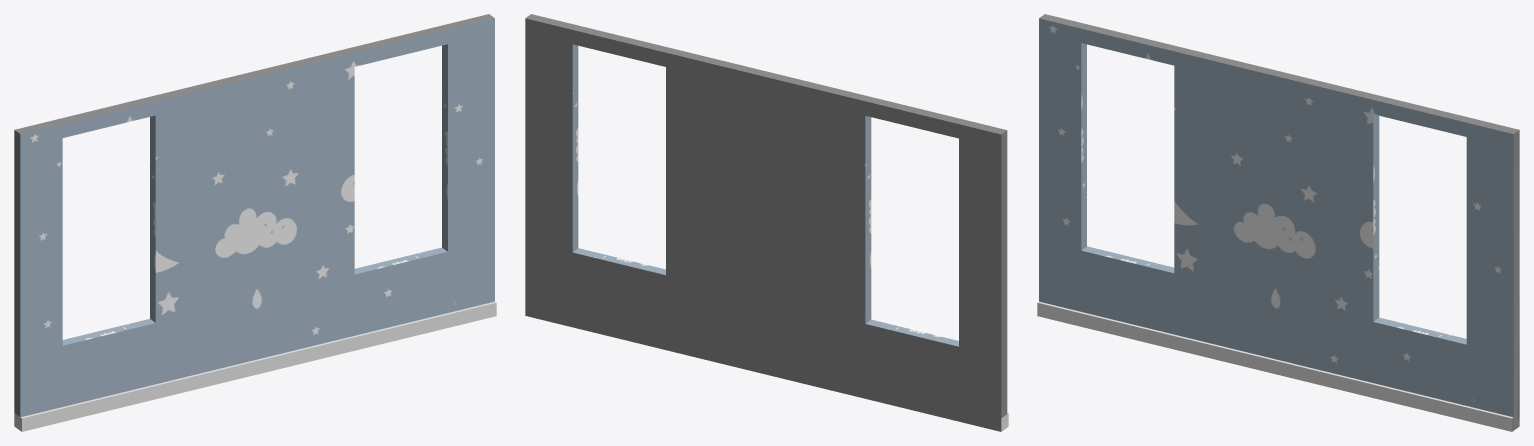
Rendered from Wall 4.FBX.
3 renders of one model, left to right at view 1: azimuth 30°, elevation 25°; view 2: azimuth 150°, elevation 25°; view 3: azimuth 330°, elevation 25°, orthographic.
Visible parts, largest first — view 1: Wall 4; view 2: Wall 4; view 3: Wall 4.
Boxes of the visible parts, x1,y1,x2,y2 form: Wall 4: (14,14,496,431); Wall 4: (525,14,1008,431); Wall 4: (1037,14,1519,431).
Size of the model in its own units: 412 by 246 by 11.22.
Materials: 2 (1 with a texture image).
